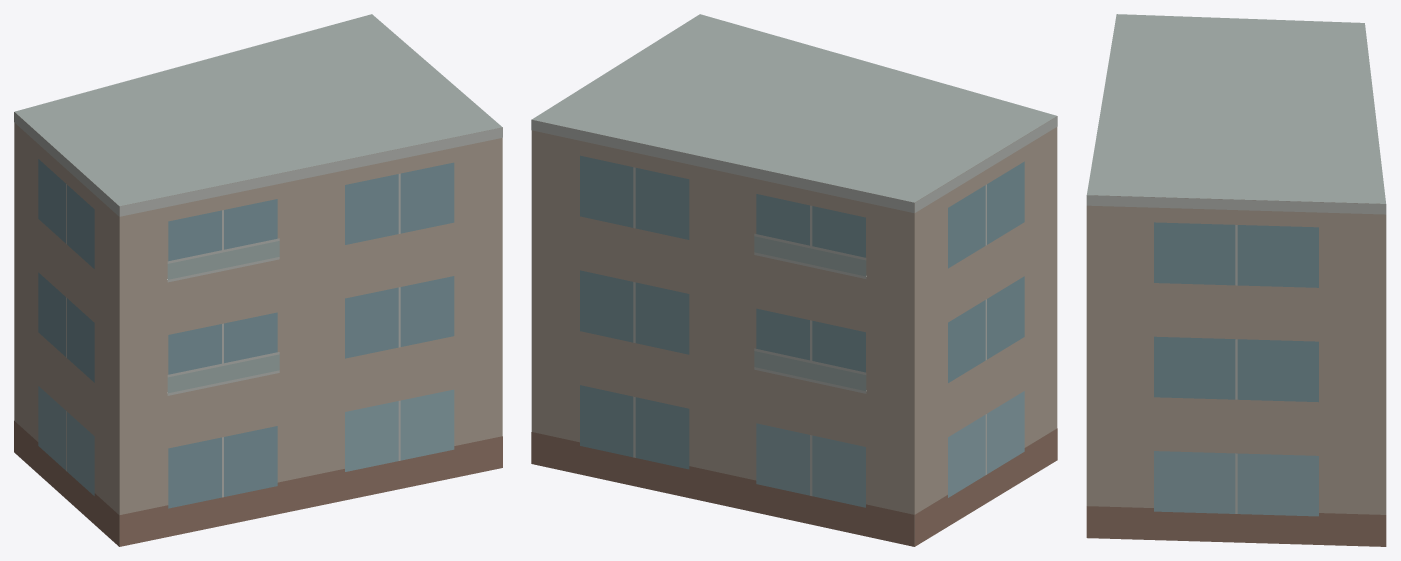
The model's file is survey-upis-32494413.glb.
3 views of the same model, side by side, from view 1: azimuth 30°, elevation 25°; view 2: azimuth 150°, elevation 25°; view 3: azimuth 270°, elevation 25° (orthographic).
Visible parts, largest first — view 1: survey-upis-32494413.tmp; view 2: survey-upis-32494413.tmp; view 3: survey-upis-32494413.tmp.
Part boxes in pixels (x1=…): survey-upis-32494413.tmp: x1=14, y1=14, x2=502, y2=546; survey-upis-32494413.tmp: x1=531, y1=14, x2=1057, y2=546; survey-upis-32494413.tmp: x1=1086, y1=14, x2=1386, y2=546.
Bounding box in the file's own units: 9.39 × 7.9 × 6.26.
